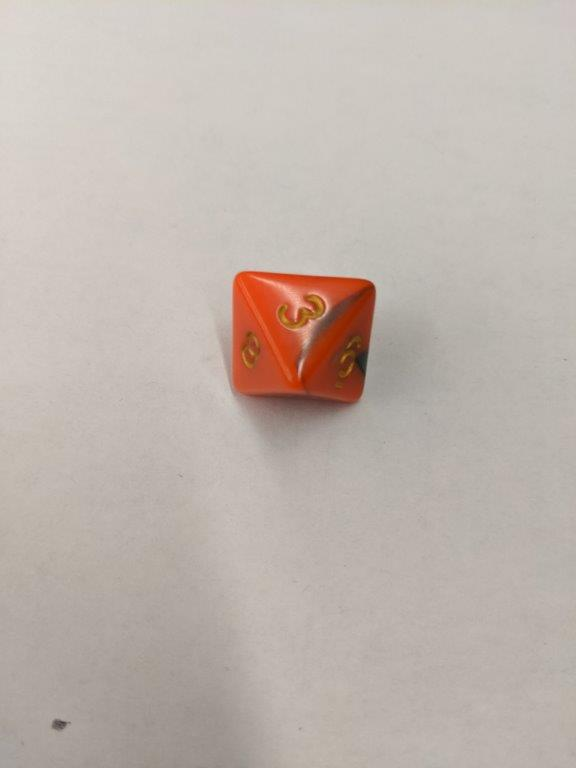d8-3: (231, 270, 377, 406)
